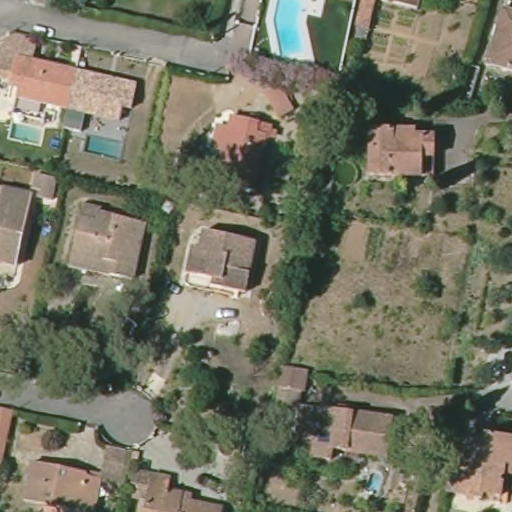pool: (263, 1, 330, 69), (81, 129, 126, 162), (2, 118, 44, 148), (365, 468, 383, 500)
